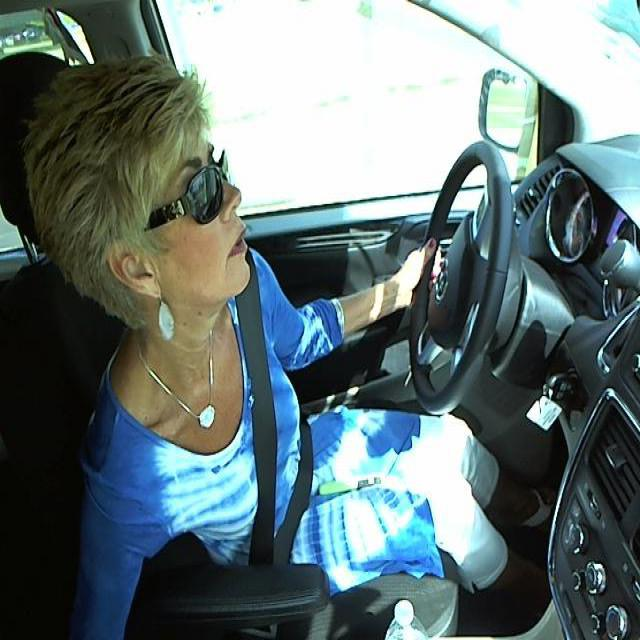seatbelt: (235, 300, 316, 561)
